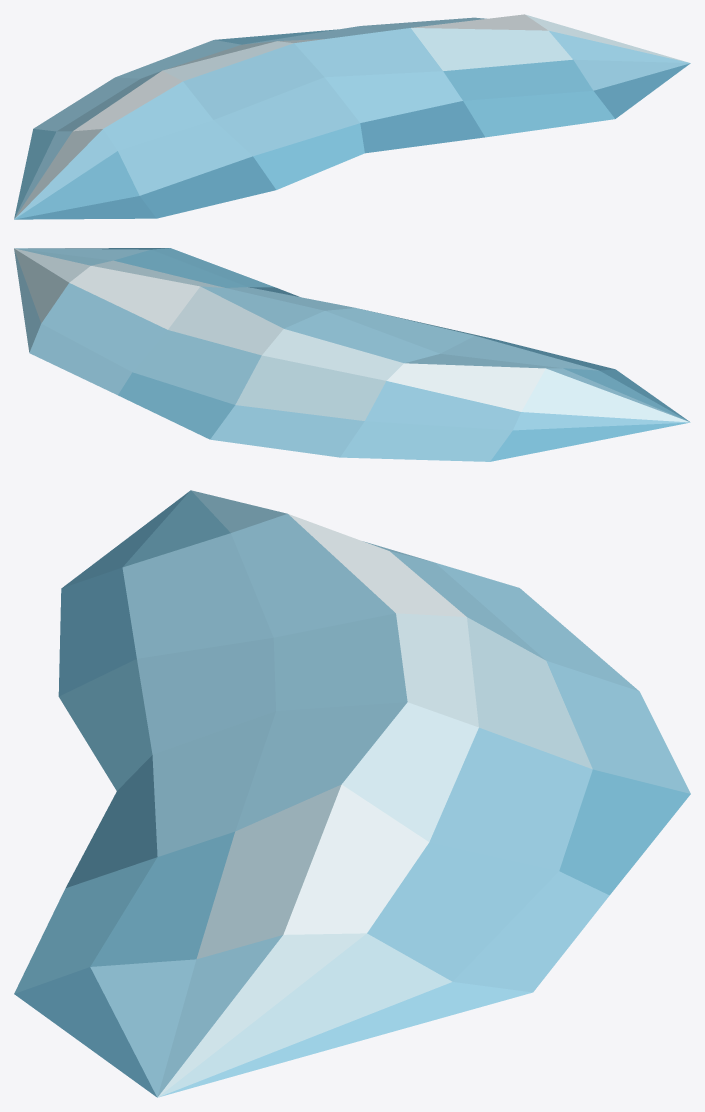
File: wave_2.glb
3 renders of one model, top to bottom at view 1: azimuth 30°, elevation 25°; view 2: azimuth 150°, elevation 25°; view 3: azimuth 270°, elevation 25°, orthographic. The views are drawn at different scales.
Parts seen in each view (by area): view 1: wave_2_0; view 2: wave_2_0; view 3: wave_2_0.
Part boxes in pixels (x1,y1,x2,y2): wave_2_0: [14, 14, 690, 219]; wave_2_0: [14, 248, 690, 461]; wave_2_0: [14, 490, 690, 1097].
Size of the model in its own units: 2.14 by 0.1694 by 1.01.
